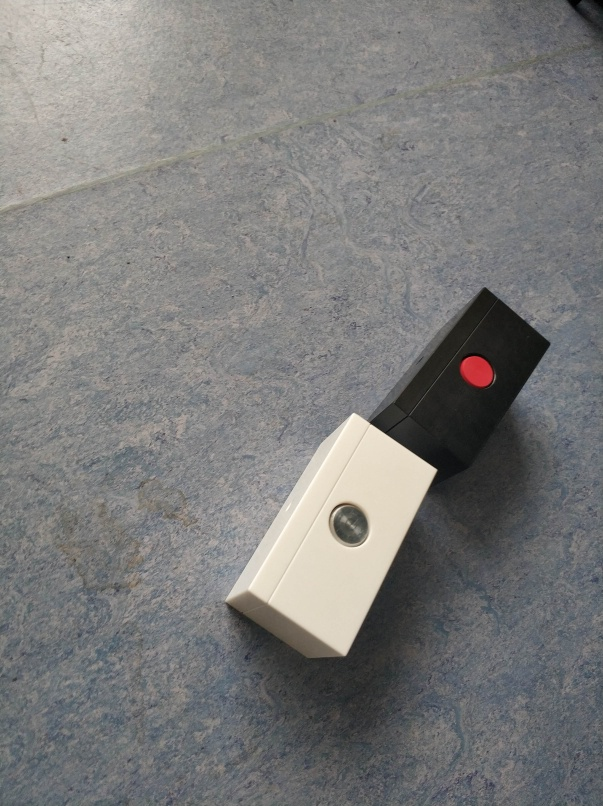black+black+red: (366, 285, 554, 479)
white+white+silver: (221, 410, 438, 657)
